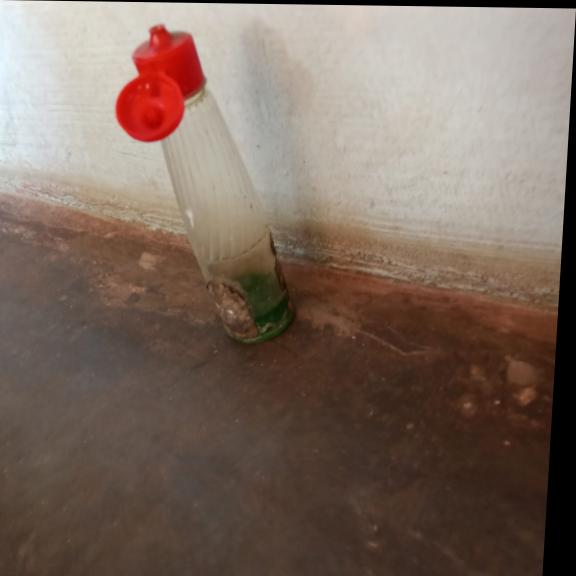Plastik: (114, 24, 316, 345)
